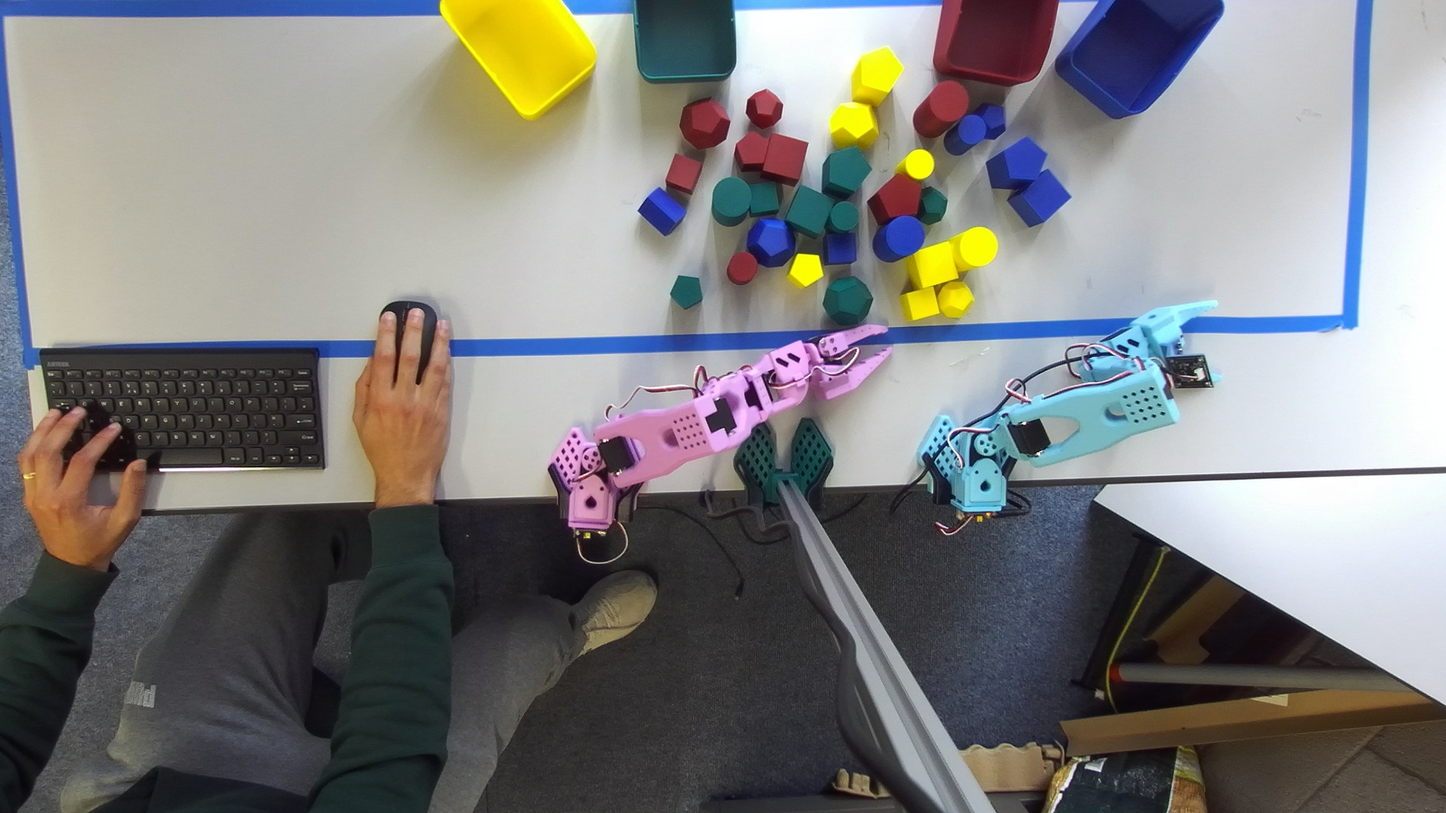bin: (1055, 0, 1224, 118), (440, 0, 595, 118), (933, 0, 1057, 86), (633, 0, 736, 82)
cube: (1008, 169, 1069, 227), (783, 184, 832, 236), (905, 241, 959, 288), (761, 133, 807, 185), (665, 154, 703, 193), (901, 287, 938, 320), (822, 231, 856, 265), (749, 181, 779, 215)
cylinder: (913, 80, 968, 137), (872, 215, 925, 262), (951, 227, 998, 271), (712, 176, 751, 226), (944, 112, 986, 155), (895, 148, 934, 181), (826, 200, 859, 231), (727, 251, 757, 285)
dodecahedron: (680, 98, 730, 149), (822, 276, 872, 325), (746, 218, 795, 266), (829, 102, 878, 148), (936, 280, 973, 318), (746, 89, 782, 127), (917, 186, 947, 224), (974, 104, 1005, 139)
gripper: (1131, 301, 1217, 388), (803, 324, 892, 400)
hexagonal: (986, 137, 1046, 189), (851, 47, 902, 106), (868, 174, 921, 225), (822, 146, 870, 199), (638, 187, 685, 235), (734, 131, 768, 171), (788, 253, 822, 287), (670, 275, 702, 309)
